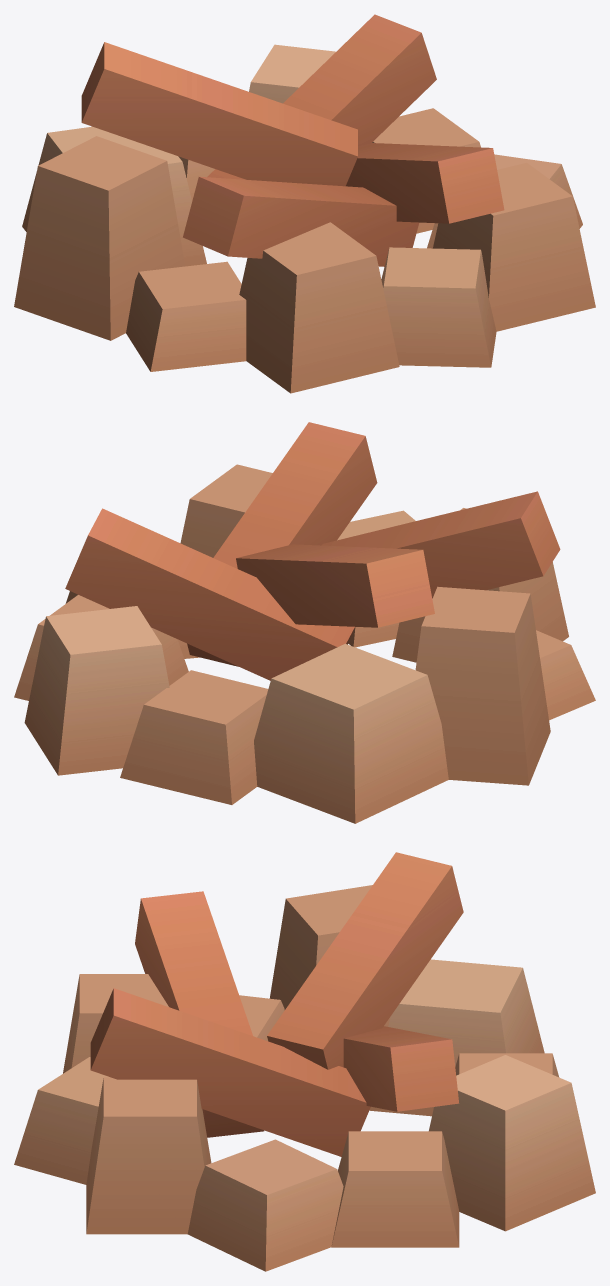
File: campfire-pit.gltf
The picture shows the model from 3 angles, top to bottom: view 1: azimuth 30°, elevation 25°; view 2: azimuth 150°, elevation 25°; view 3: azimuth 270°, elevation 25°; orthographic projection. The views are drawn at different scales.
Visible parts, largest first — view 1: campfire-pit, wood; view 2: campfire-pit, wood; view 3: campfire-pit, wood.
Part boxes in pixels (<box>): campfire-pit: <box>14,44,595,393</box>; wood: <box>81,14,504,266</box>; campfire-pit: <box>14,464,595,823</box>; wood: <box>65,422,560,680</box>; campfire-pit: <box>14,885,595,1271</box>; wood: <box>90,852,463,1156</box>.
Bounding box in the file's own units: 0.2778 × 0.1091 × 0.2692.
Materials: 1 (1 with a texture image).
